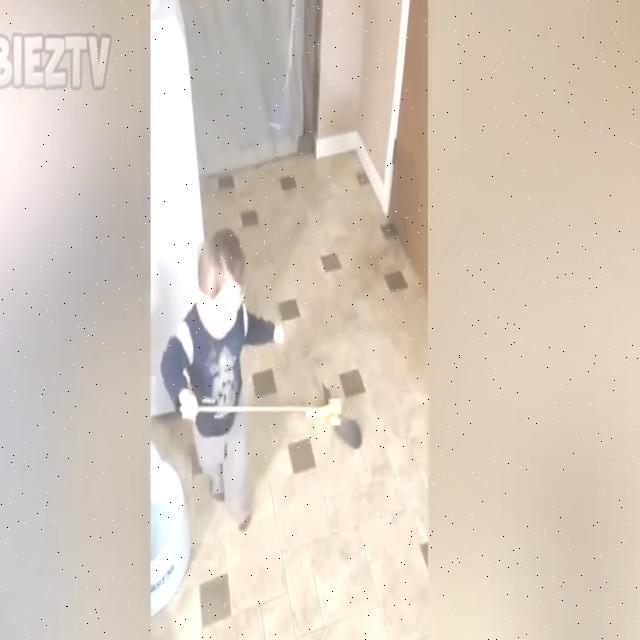child: (160, 226, 286, 532)
